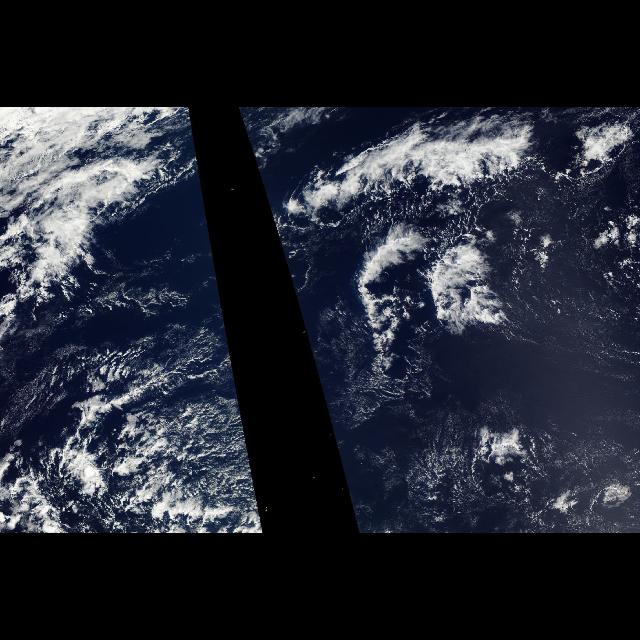Fish: (260, 121, 638, 381)
Sugar: (509, 230, 635, 398)
